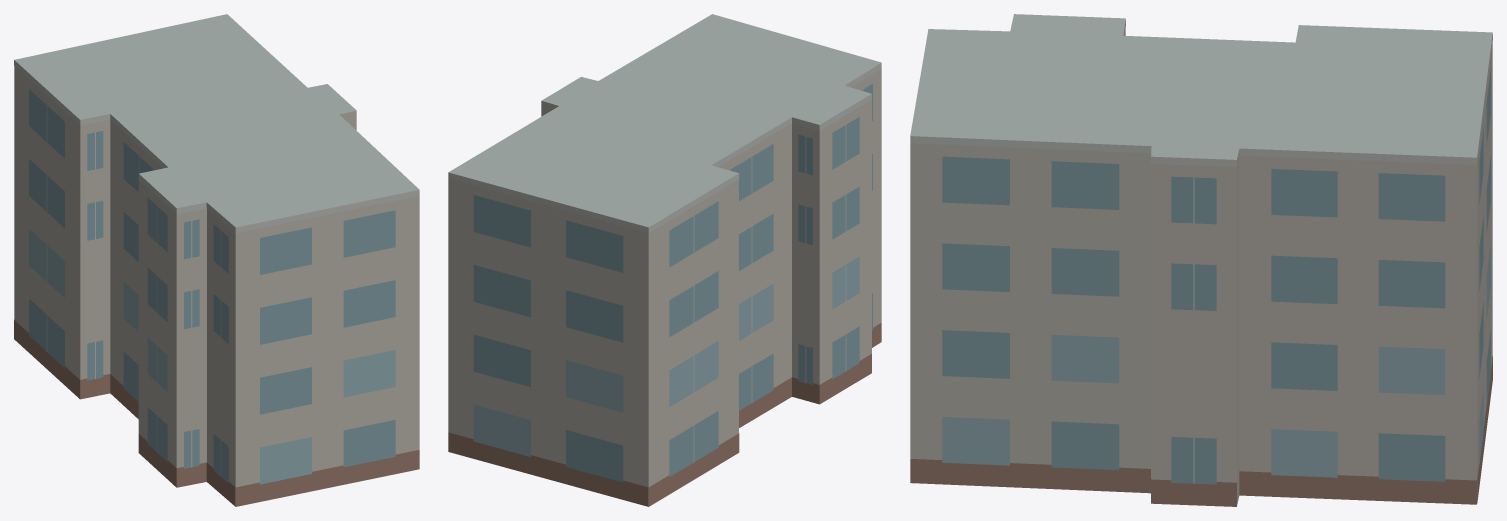
The model's file is survey-upis-32989451.glb.
3 renders of one model, left to right at view 1: azimuth 30°, elevation 25°; view 2: azimuth 150°, elevation 25°; view 3: azimuth 270°, elevation 25°, orthographic. The views are drawn at different scales.
Parts seen in each view (by area): view 1: survey-upis-32989451.tmp; view 2: survey-upis-32989451.tmp; view 3: survey-upis-32989451.tmp.
Part boxes in pixels (x1,y1,x2,y2): survey-upis-32989451.tmp: (14,14,419,506); survey-upis-32989451.tmp: (448,14,881,506); survey-upis-32989451.tmp: (910,14,1492,506).
Bounding box in the file's own units: 10.56 × 11.7 × 17.82.
